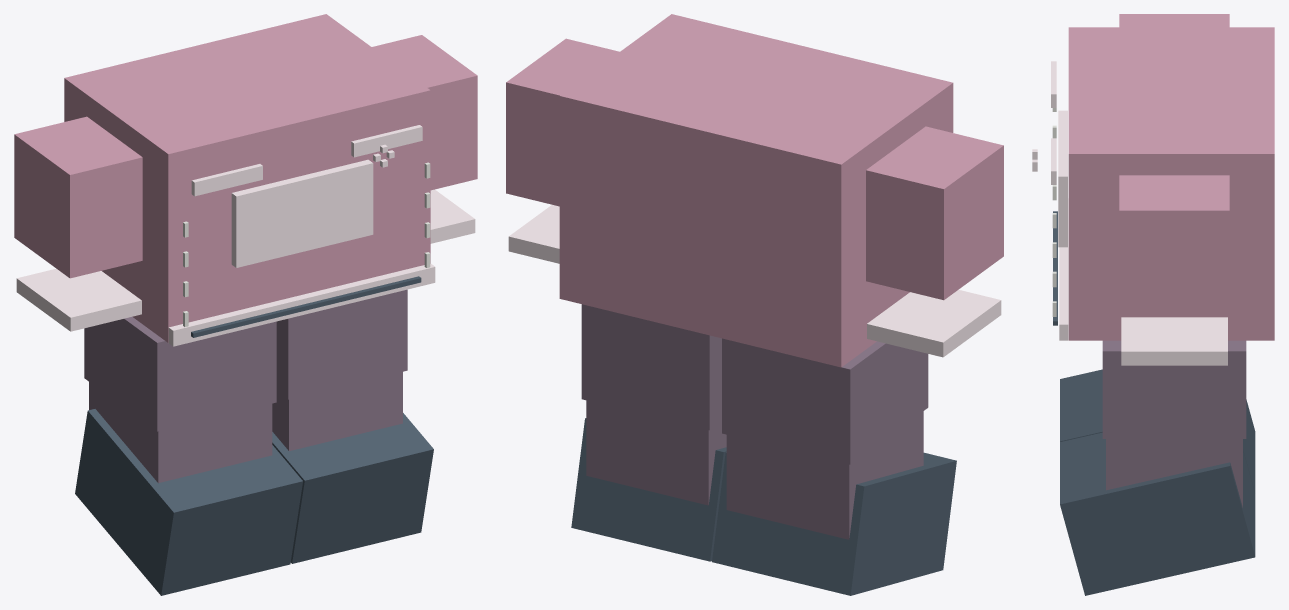
File: casual-rose.glb
3 renders of one model, left to right at view 1: azimuth 30°, elevation 25°; view 2: azimuth 150°, elevation 25°; view 3: azimuth 270°, elevation 25°, orthographic. The views are drawn at different scales.
Visible parts, largest first — view 1: jacket, shoe-Right, upper-sleeve-Right, trouser-Right, shoe-Left, tee-panel, trouser-Left, lower-trouser-Right, upper-sleeve-Left, lower-trouser-Left, cuff-Right, tee-hem (+4 smaller); view 2: jacket, upper-sleeve-Right, trouser-Right, shoe-Right, trouser-Left, lower-trouser-Right, lower-trouser-Left, upper-sleeve-Left, shoe-Left, cuff-Right, cuff-Left; view 3: jacket, shoe-Left, upper-sleeve-Left, trouser-Left, lower-trouser-Left, cuff-Left, shoe-Right, upper-sleeve-Right, tee-panel, tee-hem, design-casual-double-hem.
Boxes of the visible parts, box(x1,y1,x2,y2) form: jacket: box(64, 14, 430, 342); shoe-Right: box(75, 409, 302, 595); upper-sleeve-Right: box(14, 116, 142, 278); trouser-Right: box(84, 317, 276, 431); shoe-Left: box(272, 413, 433, 563); tee-panel: box(231, 159, 373, 267); trouser-Left: box(276, 289, 407, 399); lower-trouser-Right: box(89, 382, 272, 482); upper-sleeve-Left: box(372, 35, 477, 190); lower-trouser-Left: box(272, 372, 402, 451); cuff-Right: box(16, 268, 141, 331); tee-hem: box(168, 263, 435, 346); jacket: box(559, 14, 953, 367); upper-sleeve-Right: box(866, 126, 1003, 300); trouser-Right: box(722, 338, 928, 464); shoe-Right: box(712, 452, 956, 595); trouser-Left: box(581, 304, 721, 430); lower-trouser-Right: box(726, 411, 923, 539); lower-trouser-Left: box(586, 400, 726, 505); upper-sleeve-Left: box(506, 38, 619, 206); shoe-Left: box(571, 418, 726, 561); cuff-Right: box(867, 289, 1001, 357); cuff-Left: box(508, 204, 559, 263); jacket: box(1068, 27, 1274, 340); shoe-Left: box(1060, 432, 1255, 595); upper-sleeve-Left: box(1119, 175, 1229, 312); trouser-Left: box(1102, 340, 1246, 438); lower-trouser-Left: box(1106, 439, 1242, 507); cuff-Left: box(1121, 317, 1227, 365); shoe-Right: box(1060, 369, 1255, 493); upper-sleeve-Right: box(1119, 14, 1229, 27); tee-panel: box(1058, 110, 1067, 247); tee-hem: box(1059, 198, 1068, 340); design-casual-double-hem: box(1053, 211, 1057, 325).
Size of the model in its own units: 1.07 by 1.13 by 0.559.
